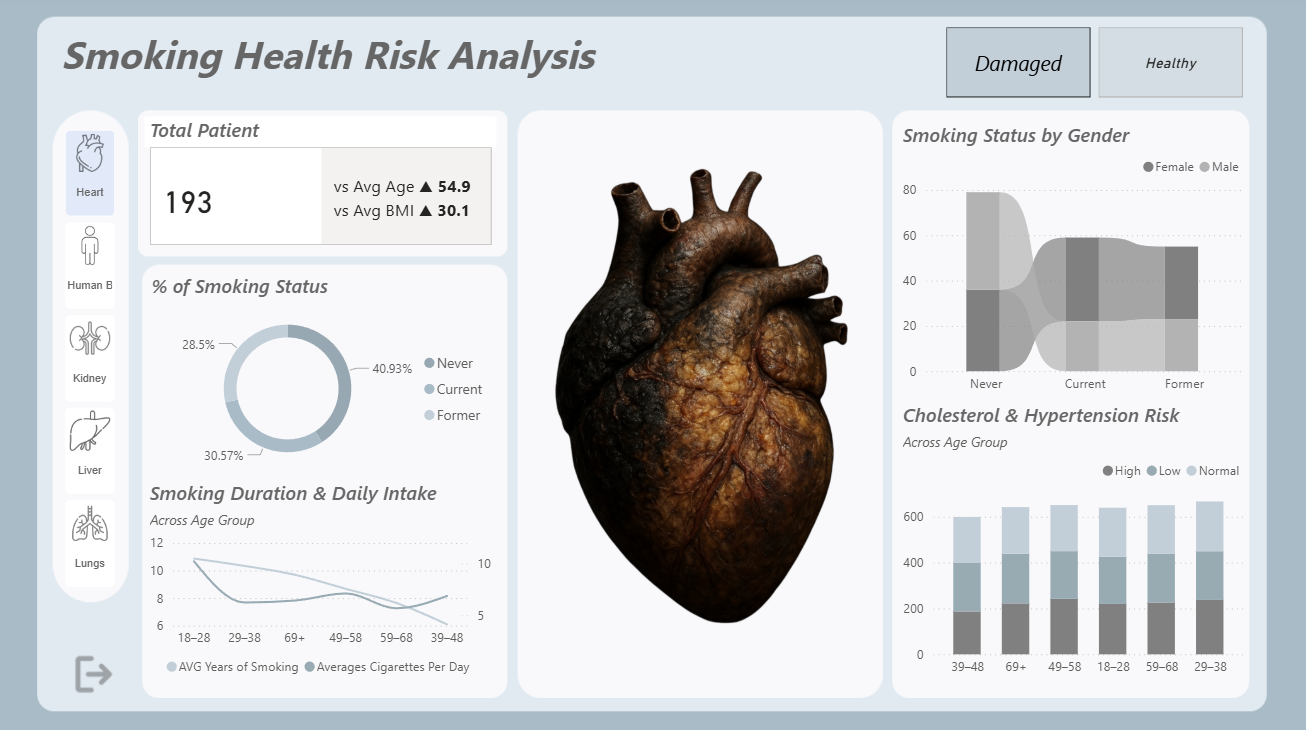

The dashboard page shown, as its layout file describes it:
{"tool":"powerbi","page":{"name":"Page 1","canvas":[1280,720],"ordinal":0},"visuals":[{"type":"advancedSlicerVisual","fields":{"Values":["condition.Organ_Condition"]},"box":[918.6,25.7,298.6,78.6],"z":0},{"type":"cardVisual","title":"Total Patient","fields":{"Data":["CountNonNull(health_dataset.Patient_ID)"]},"box":[145,118.8,342,130],"z":1000},{"type":"ChicletSlicer1448559807354","fields":{"Category":["Organs.Organ"],"Image":["Organs.Icon_URL"]},"box":[58.9,123.2,86.8,465.3],"z":2000},{"type":"image","box":[515,118.3,342,553.3],"z":3000},{"type":"donutChart","title":"% of Smoking Status","fields":{"Category":["health_dataset.Smoking_Status"],"Y":["CountNonNull(health_dataset.Smoking_Status)"]},"box":[145.7,270,341.4,200],"z":4000},{"type":"lineChart","title":"Smoking Duration & Daily Intake","fields":{"Category":["health_dataset.Age Group"],"Y":["Avg(health_dataset.Years_of_Smoking)"],"Y2":["Avg(health_dataset.Cigarettes_Per_Day)"]},"box":[144.3,471.4,341.4,200],"z":5000},{"type":"ribbonChart","title":"Smoking Status by Gender","fields":{"Category":["health_dataset.Smoking_Status"],"Y":["CountNonNull(health_dataset.Patient_ID)"],"Series":["health_dataset.Gender"]},"box":[875.7,122.9,341.4,272.9],"z":6000},{"type":"columnChart","title":"Cholesterol & Hypertension Risk","fields":{"Category":["health_dataset.Age Group"],"Y":["Avg(health_dataset.Cholesterol_Level)"],"Series":["health_dataset.BP_Risk"]},"box":[875.7,395.7,342,275.7],"z":7000},{"type":"textbox","box":[58.6,25.7,547.1,64.3],"z":7001}]}

Visuals, with their boxes in screenshot pixels (x1, y1, x2, y2), scaled from the page's 1280x720 canvas onto the 1306x730 screenshot:
advancedSlicerVisual - condition.Organ_Condition: box(937, 26, 1242, 106)
"Total Patient" cardVisual: box(148, 120, 497, 252)
ChicletSlicer1448559807354 - Organs.Organ x Organs.Icon_URL: box(60, 125, 149, 597)
image: box(525, 120, 874, 681)
"% of Smoking Status" donutChart: box(149, 274, 497, 477)
"Smoking Duration & Daily Intake" lineChart: box(147, 478, 496, 681)
"Smoking Status by Gender" ribbonChart: box(893, 125, 1242, 401)
"Cholesterol & Hypertension Risk" columnChart: box(893, 401, 1242, 681)
textbox: box(60, 26, 618, 91)
